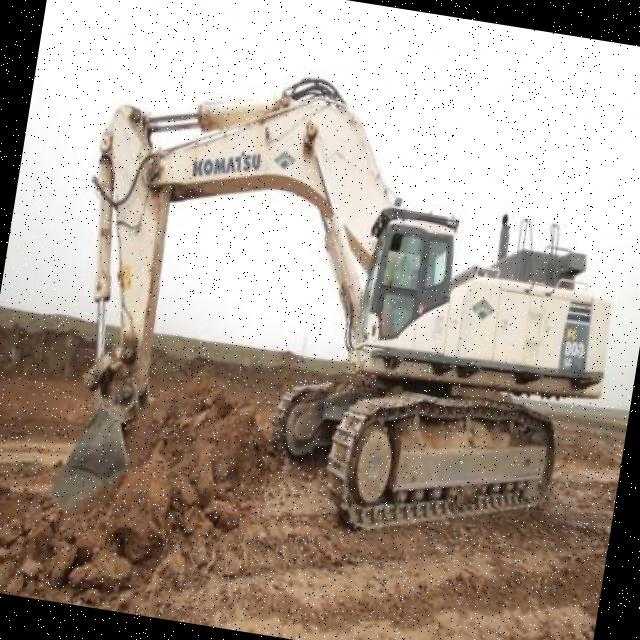Excavator: (37, 45, 640, 595)
